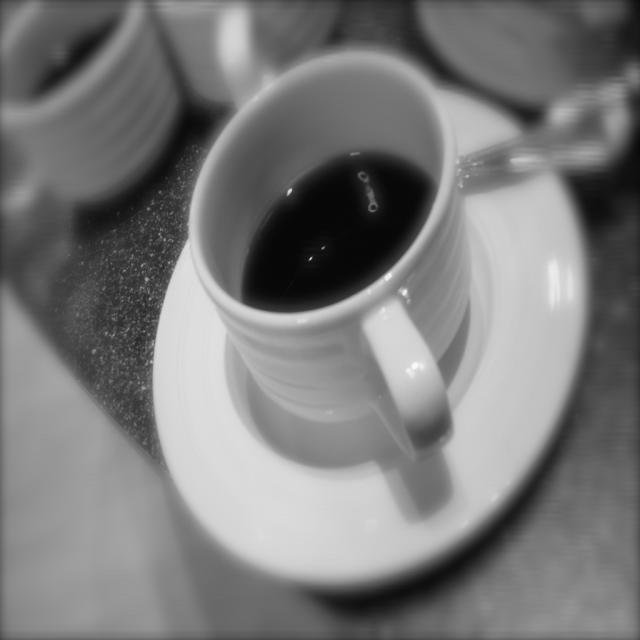Coffee: (192, 45, 502, 491), (26, 23, 116, 88)
Tea: (238, 157, 438, 306), (31, 11, 113, 97)
